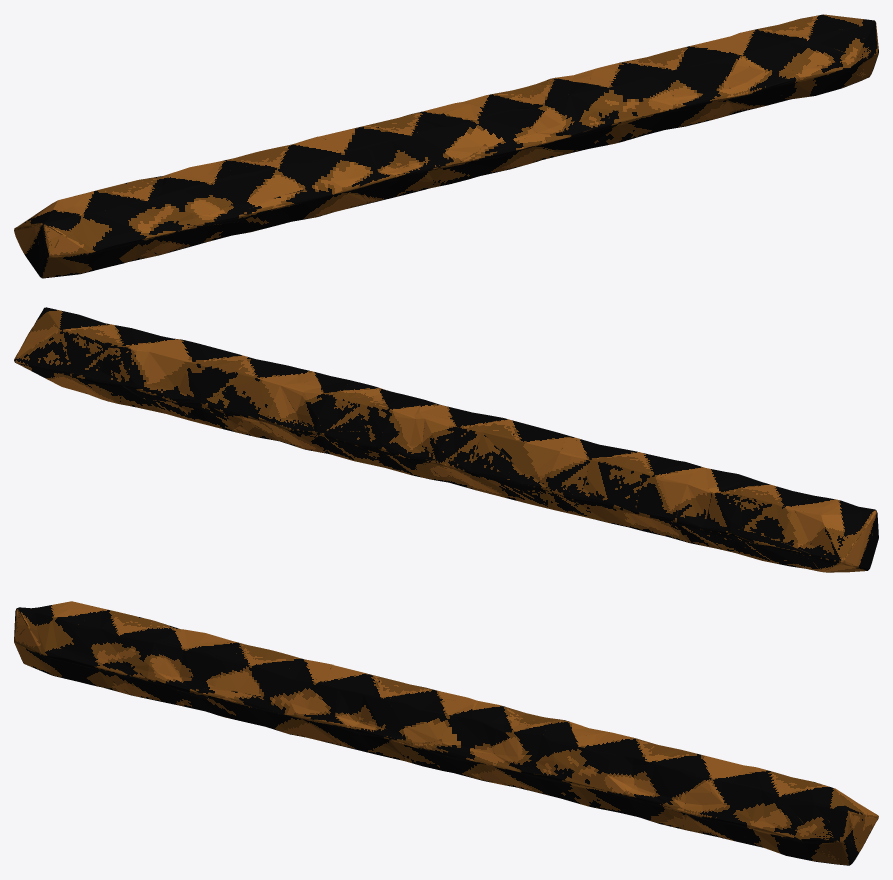
3 renders of one model, top to bottom at view 1: azimuth 30°, elevation 25°; view 2: azimuth 150°, elevation 25°; view 3: azimuth 330°, elevation 25°, orthographic.
Parts seen in each view (by area): view 1: OBJ0d8; view 2: OBJ0d8; view 3: OBJ0d8.
Part boxes in pixels (x1=…): OBJ0d8: x1=14, y1=14, x2=878, y2=278; OBJ0d8: x1=14, y1=307, x2=878, y2=572; OBJ0d8: x1=14, y1=601, x2=878, y2=865.
Bounding box in the file's own units: 0.4443 × 0.0316 × 0.041.
1 material, 1 textured.
